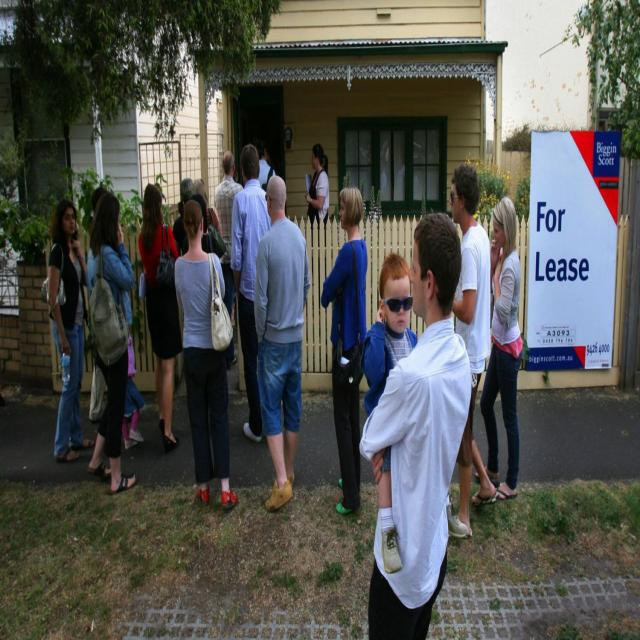body: (358, 218, 474, 640), (356, 252, 472, 577), (172, 198, 241, 510), (252, 171, 312, 518), (448, 162, 499, 540), (83, 189, 138, 497), (474, 198, 528, 506), (320, 184, 368, 516), (45, 196, 96, 464), (231, 144, 275, 443), (136, 178, 183, 450), (214, 151, 244, 366), (303, 135, 331, 304), (121, 305, 145, 450), (201, 175, 225, 252), (256, 139, 277, 194), (176, 172, 202, 198), (90, 185, 108, 215), (174, 216, 188, 252)
